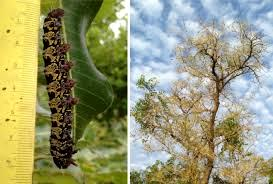Caterpillar: (40, 7, 82, 174)
